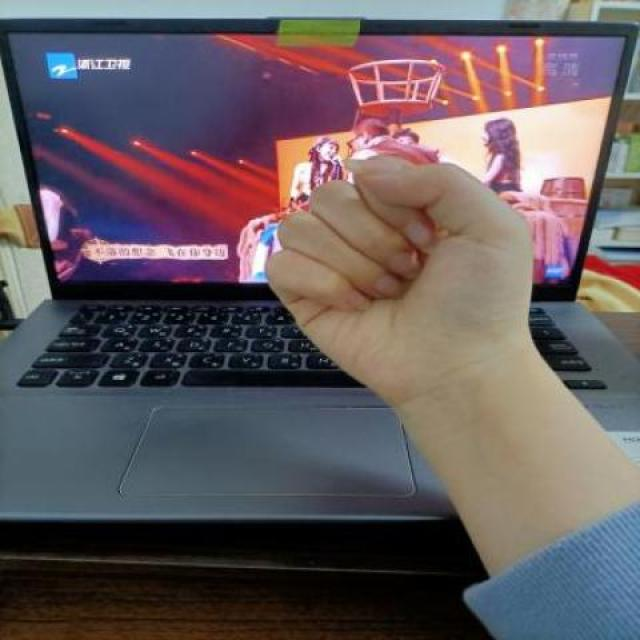Closed Hand: (260, 151, 548, 424)
